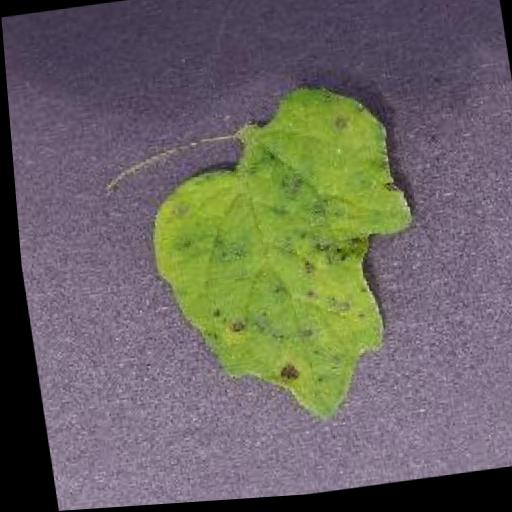Septoria: (132, 82, 436, 444)
